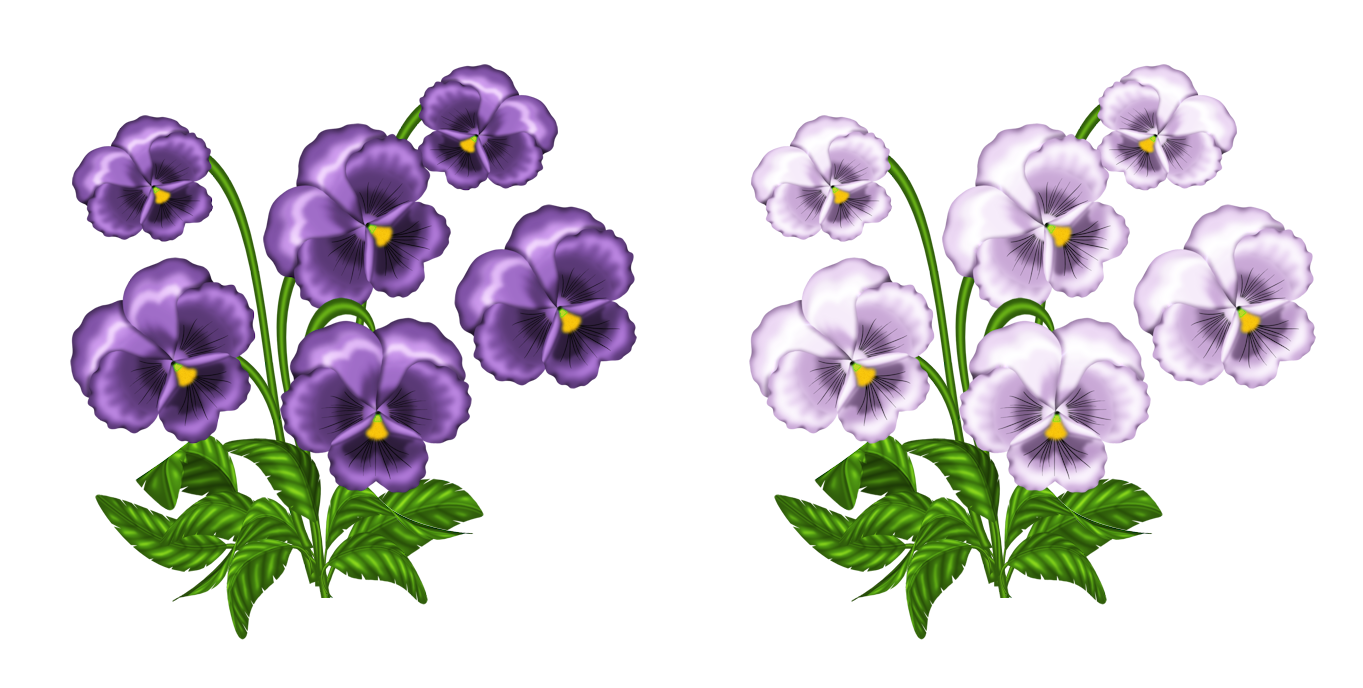violet: (1134, 180, 1351, 390), (931, 97, 1134, 316), (945, 298, 1153, 509), (271, 307, 482, 509), (713, 244, 932, 432), (258, 115, 457, 305), (437, 209, 636, 388), (75, 263, 253, 433), (407, 45, 565, 194), (1072, 57, 1249, 190), (60, 94, 218, 234), (748, 98, 887, 249)
